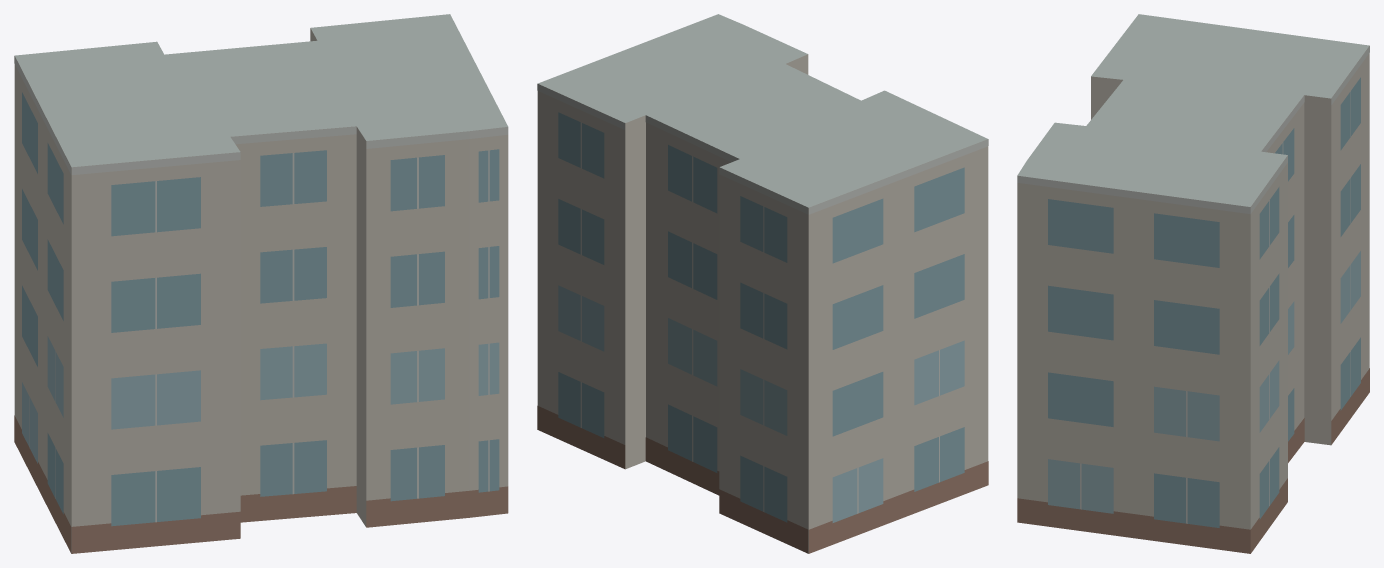
File: survey-upis-32510536.glb
3 views of the same model, side by side, from view 1: azimuth 30°, elevation 25°; view 2: azimuth 150°, elevation 25°; view 3: azimuth 270°, elevation 25° (orthographic). The views are drawn at different scales.
Parts seen in each view (by area): view 1: survey-upis-32510536.tmp; view 2: survey-upis-32510536.tmp; view 3: survey-upis-32510536.tmp.
Boxes of the visible parts, left/top/right/bottom form: survey-upis-32510536.tmp: left=14, top=14, right=508, bottom=553; survey-upis-32510536.tmp: left=537, top=14, right=988, bottom=553; survey-upis-32510536.tmp: left=1017, top=14, right=1369, bottom=553.
Size of the model in its own units: 14.18 by 11.87 by 10.94.
